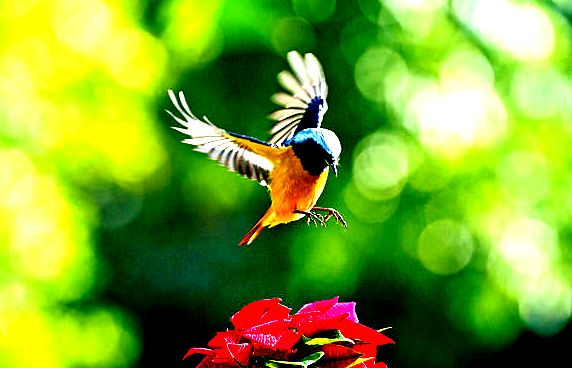Bird: (162, 44, 351, 245)
